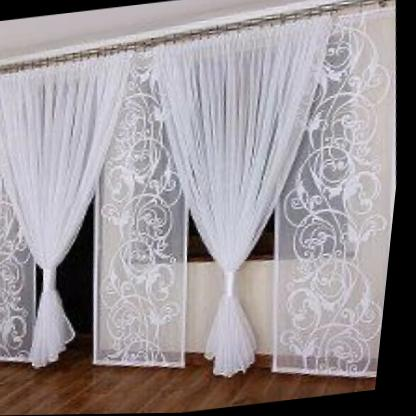Curtains: (0, 13, 415, 416)
Wooden floor: (0, 336, 385, 416)
